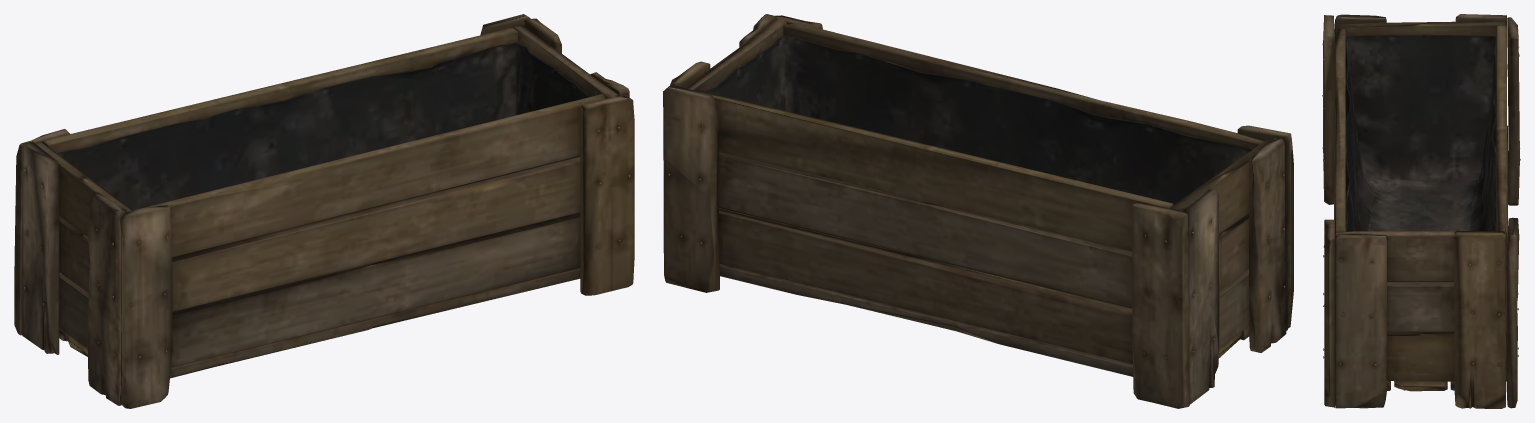
File: planter_box_02.glb
3 views of the same model, side by side, from view 1: azimuth 30°, elevation 25°; view 2: azimuth 150°, elevation 25°; view 3: azimuth 270°, elevation 25° (orthographic). The views are drawn at different scales.
Parts seen in each view (by area): view 1: planter_box_02; view 2: planter_box_02; view 3: planter_box_02.
Boxes of the visible parts, <box> form: planter_box_02: <box>14,14,634,408</box>; planter_box_02: <box>663,14,1293,408</box>; planter_box_02: <box>1322,14,1520,408</box>.
Size of the model in its own units: 1.25 by 0.4528 by 0.467.
1 material, 1 textured.
